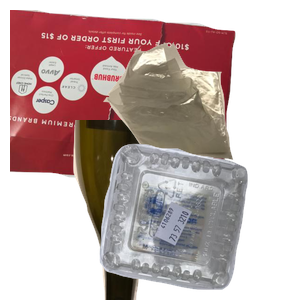glass: (71, 120, 254, 300)
paper: (10, 10, 238, 190)
plastic: (97, 141, 300, 300)
trash: (101, 40, 300, 192)
